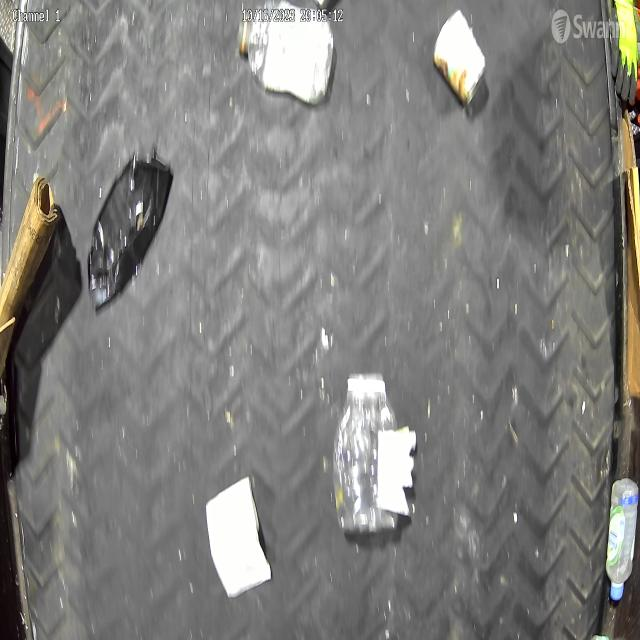can: (432, 8, 488, 106)
plastic_bottle: (605, 477, 639, 602)
